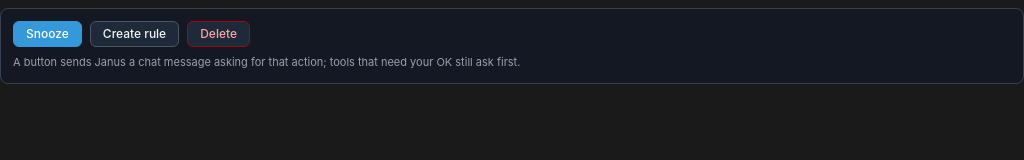
Test case: UI block catalog (JAN-252) › sends a chat message for an action button once, and runs nothing itself
Later steps or results of the test are not shown.
Click the button "Snooze".
click(47, 34)  # box [13, 21, 82, 47]
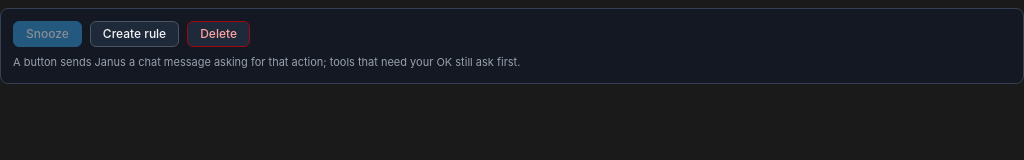
Check: the button "Snooze" is disabled, box [13, 21, 82, 47]
